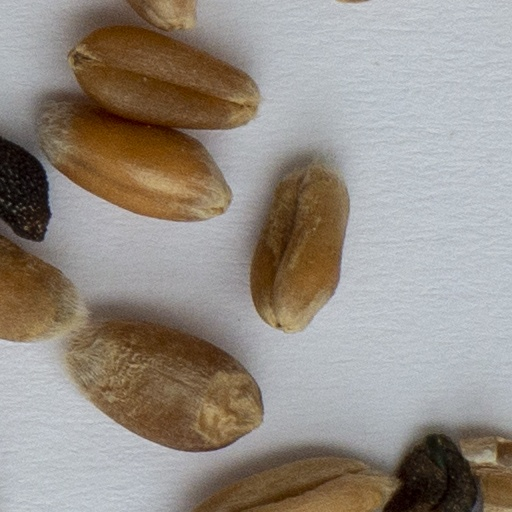Convolvulus-poly: (0, 133, 53, 245)
